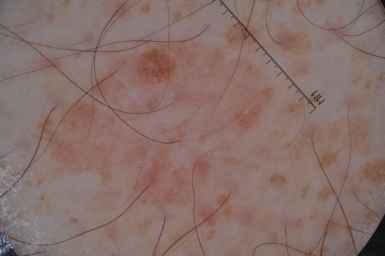seborrheic keratosis: (33, 38, 275, 217)
